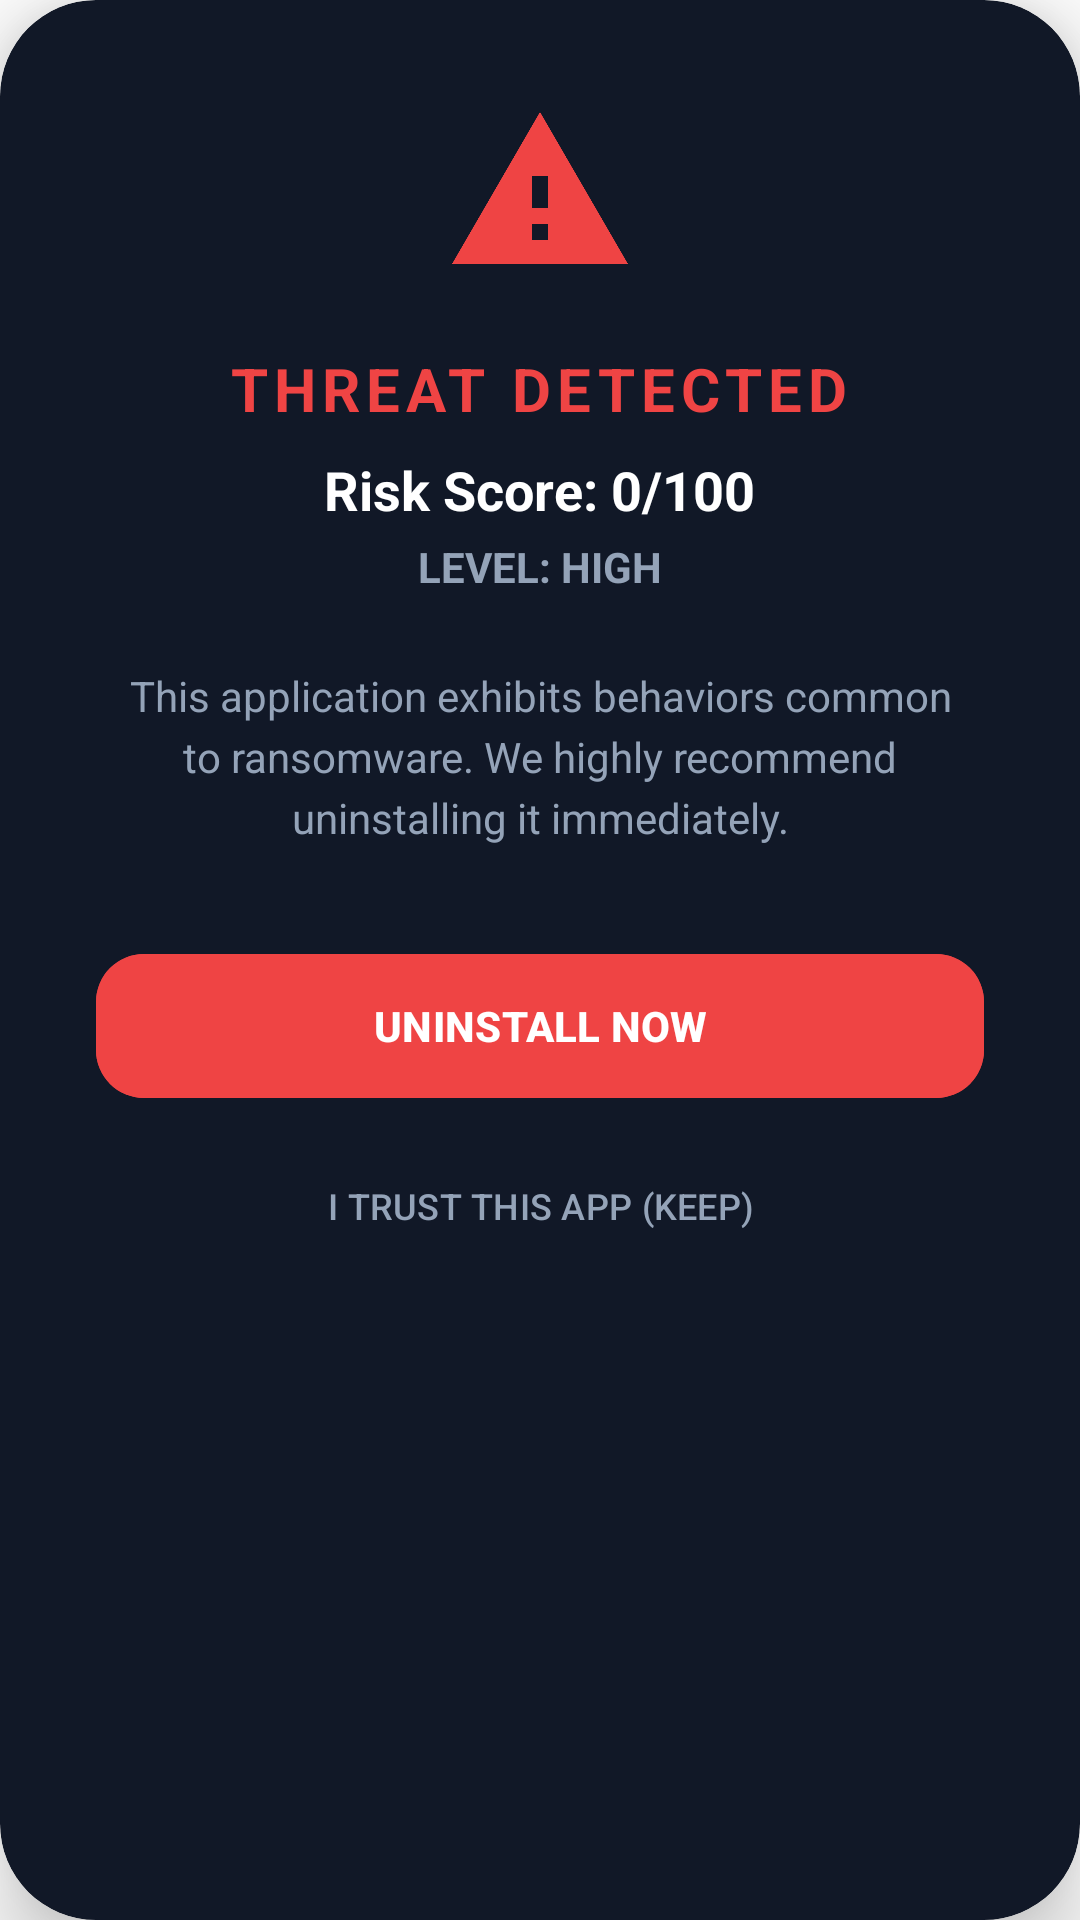

Screen size 1080*1920. Icon name, then its box in pixels as [x1,y1,x2,y2]:
warning: [452,113,628,264]
